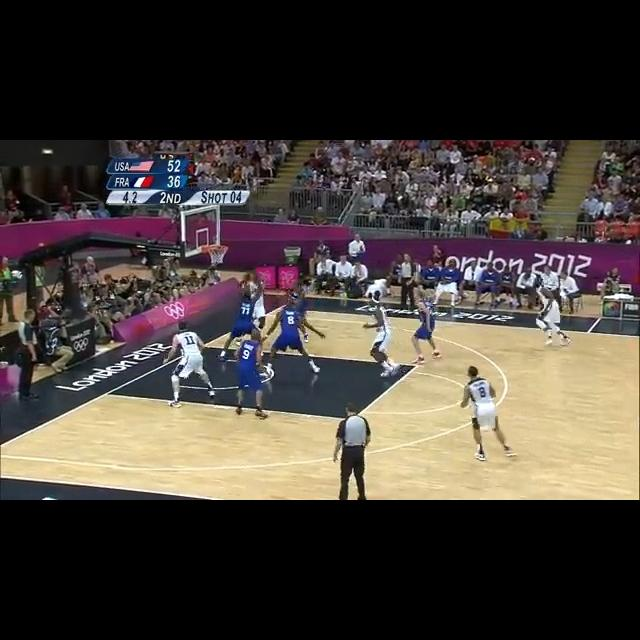hoop: (204, 244, 230, 264)
person: (167, 322, 218, 406), (333, 403, 374, 500), (231, 327, 264, 417), (347, 231, 367, 264)
